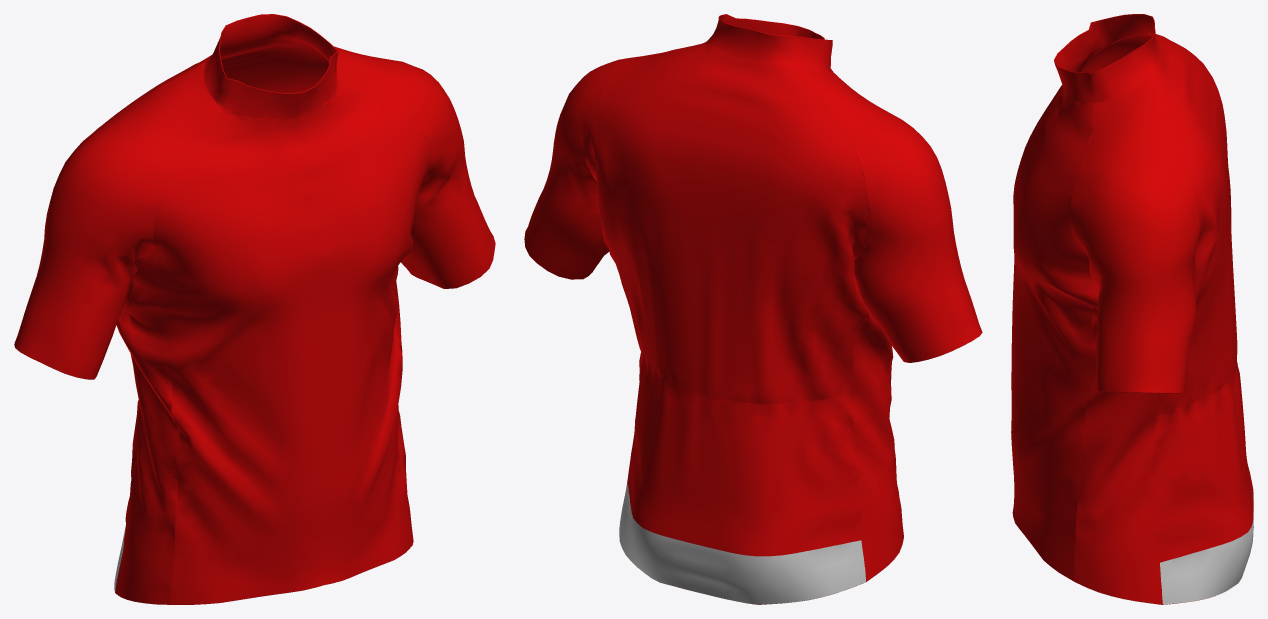
The model's file is shirt-red.dae.
The picture shows the model from 3 angles, left to right: view 1: azimuth 30°, elevation 25°; view 2: azimuth 150°, elevation 25°; view 3: azimuth 270°, elevation 25°; orthographic projection. The views are drawn at different scales.
Parts seen in each view (by area): view 1: Collar4_3, Collar3_4, Collar8_2, Collar10_6, Collar9_1, Collar5_11, Collar12_9, Collar12_20, Collar11_7; view 2: Collar5_0, Collar7_5, Collar8_2, Collar6_8, Collar9_1, Collar10_6, Collar12_9, Collar12_20; view 3: Collar3_4, Collar9_1, Collar11_7, Collar5_0, Collar7_5, Collar6_8, Collar12_9, Collar12_20, Collar4_3, Collar8_13.
Boxes of the visible parts, x1,y1,x2,y2 form: Collar4_3: (150, 110, 324, 604); Collar3_4: (296, 82, 430, 584); Collar8_2: (14, 62, 222, 379); Collar10_6: (115, 245, 179, 604); Collar9_1: (334, 46, 495, 288); Collar5_11: (220, 37, 329, 93); Collar12_9: (204, 37, 338, 120); Collar12_20: (220, 14, 337, 62); Collar11_7: (393, 266, 413, 544); Collar5_0: (581, 45, 869, 404); Collar7_5: (627, 351, 861, 556); Collar8_2: (795, 67, 982, 362); Collar6_8: (619, 483, 865, 604); Collar9_1: (524, 42, 705, 279); Collar10_6: (849, 309, 903, 581); Collar12_9: (705, 17, 832, 72); Collar12_20: (720, 14, 823, 39); Collar3_4: (1011, 88, 1094, 581); Collar9_1: (1070, 78, 1199, 392); Collar11_7: (1074, 274, 1162, 604); Collar5_0: (1149, 35, 1237, 416); Collar7_5: (1154, 362, 1253, 562); Collar6_8: (1160, 492, 1253, 604); Collar12_9: (1054, 33, 1161, 104); Collar12_20: (1055, 14, 1154, 71); Collar4_3: (1011, 85, 1063, 509); Collar8_13: (1080, 35, 1152, 73).
Size of the model in its own units: 63.01 by 29.53 by 71.44.
